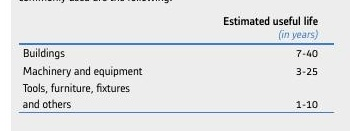table: (0, 0, 350, 131)
